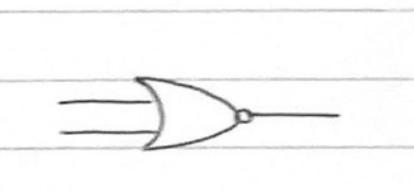NOR: (129, 68, 266, 166)
